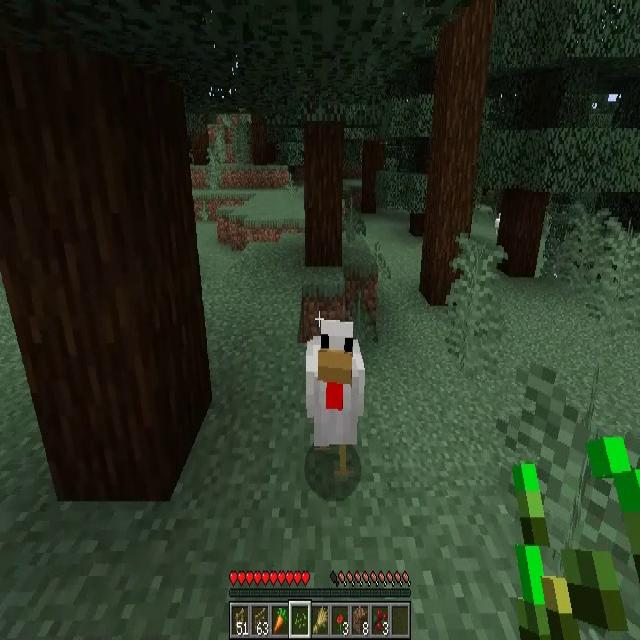duck: (308, 318, 366, 467)
